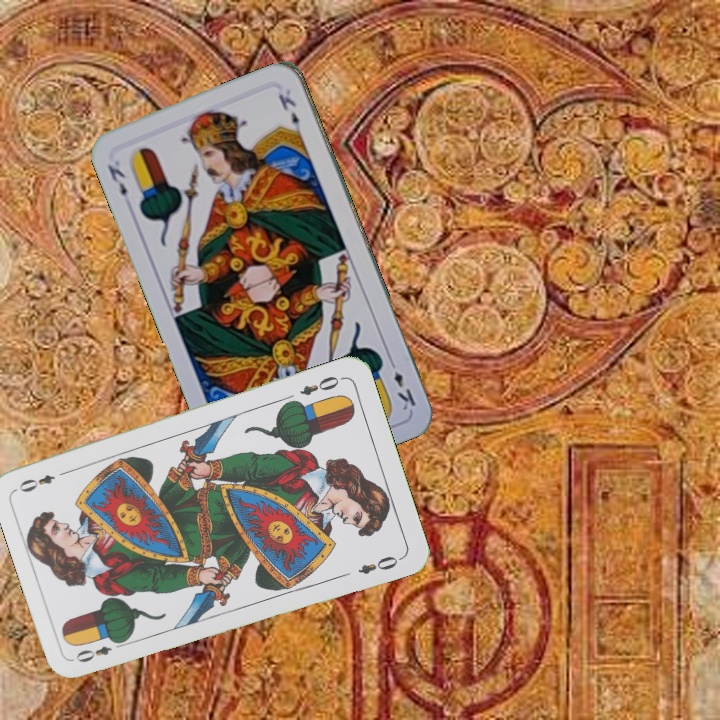EK: (385, 355, 419, 413), (103, 160, 132, 210)
EO: (72, 636, 128, 665), (296, 372, 342, 398)
